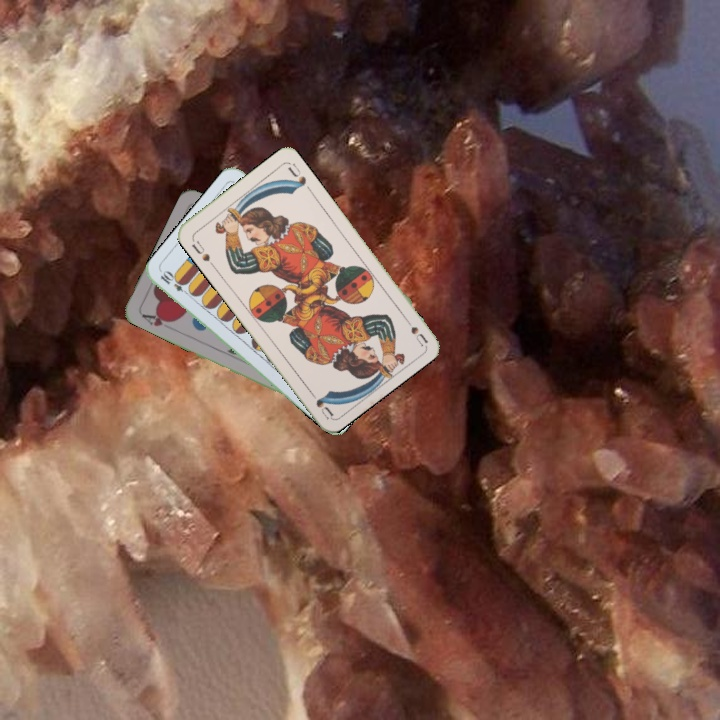E10: (156, 267, 193, 298)
HA: (138, 309, 176, 329)
SU: (399, 311, 430, 348), (188, 234, 217, 269)
